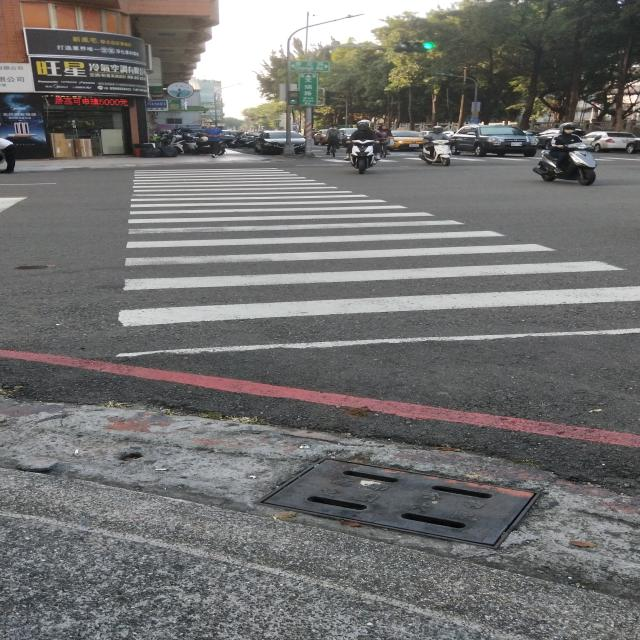person: (549, 122, 580, 174), (202, 124, 222, 156), (0, 139, 18, 174)
zebra crossing: (117, 169, 632, 357), (323, 158, 639, 164)
